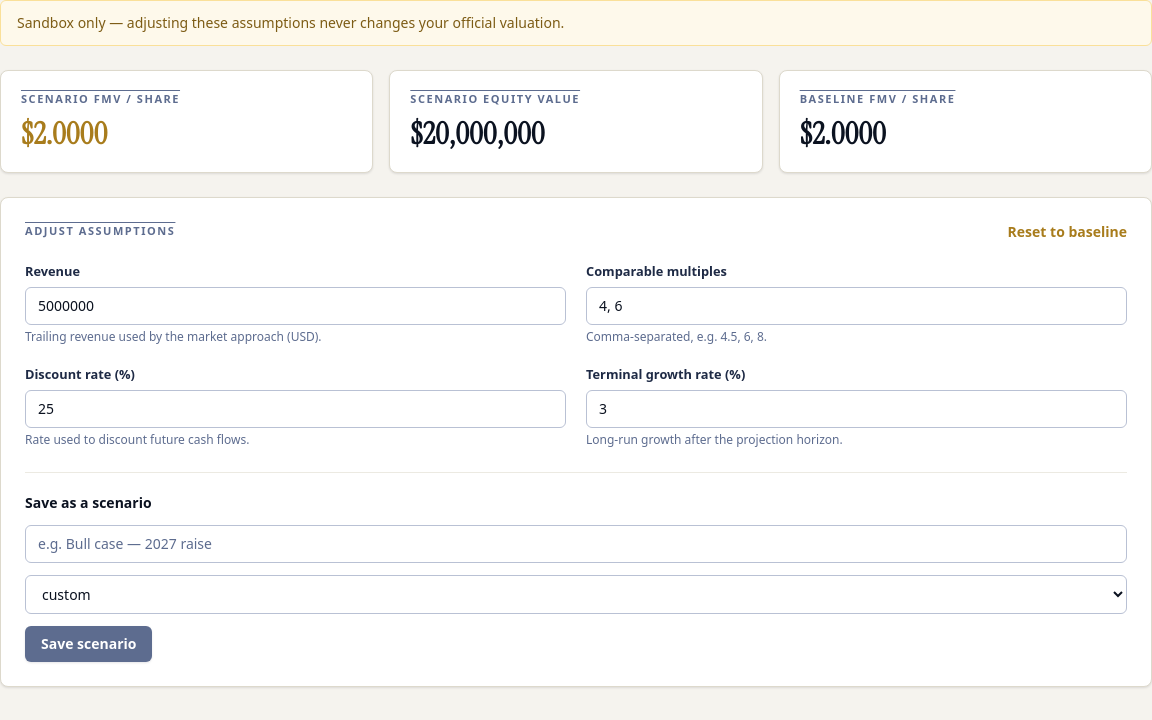
Test case: ScenariosTab — reset › puts the knobs back and drops the preview
Type "50" into the field labelled "Discount rate (%) Rate used to discount future cash flows." at [296, 409], box [25,390,566,428]
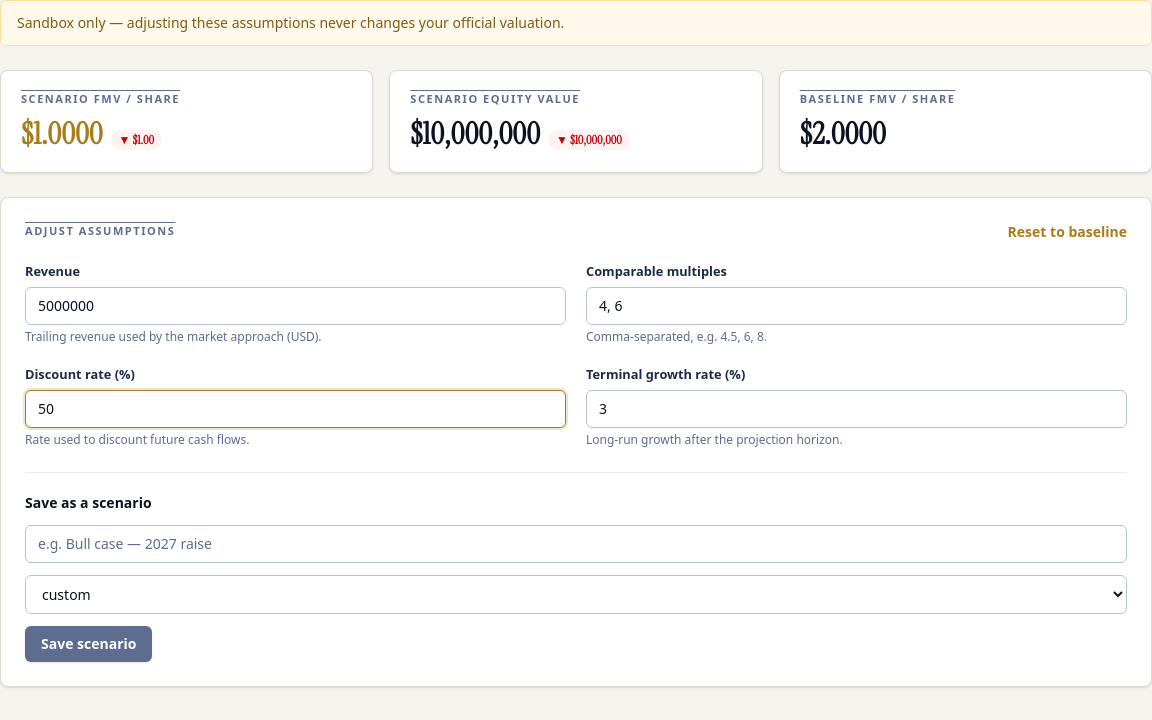
Expected: the text "$1.0000" is shown, [21,114,103,152]
Click the button "Reset to baseline" at [1067, 232], box [1008,222,1127,242]
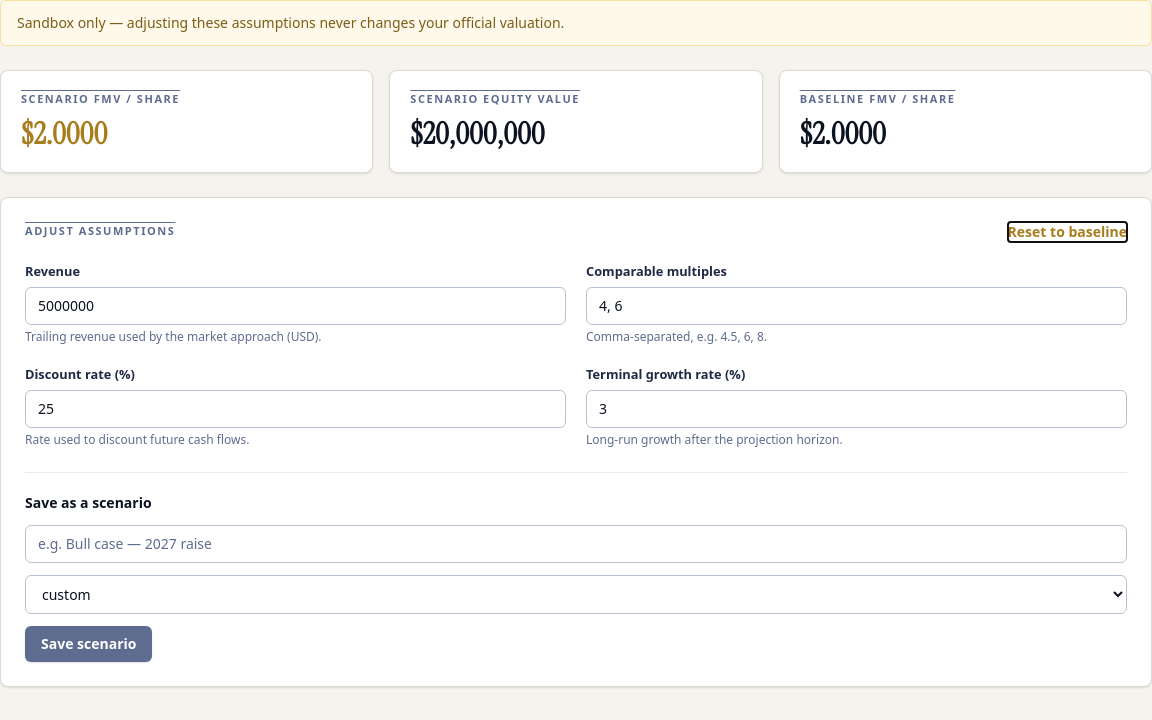
Expected: the field labelled "Discount rate (%) Rate used to discount future cash flows." holds "25", [25,390,566,428]
Expected: the text "$1.0000" is gone
Expected: the text "▼" is gone
